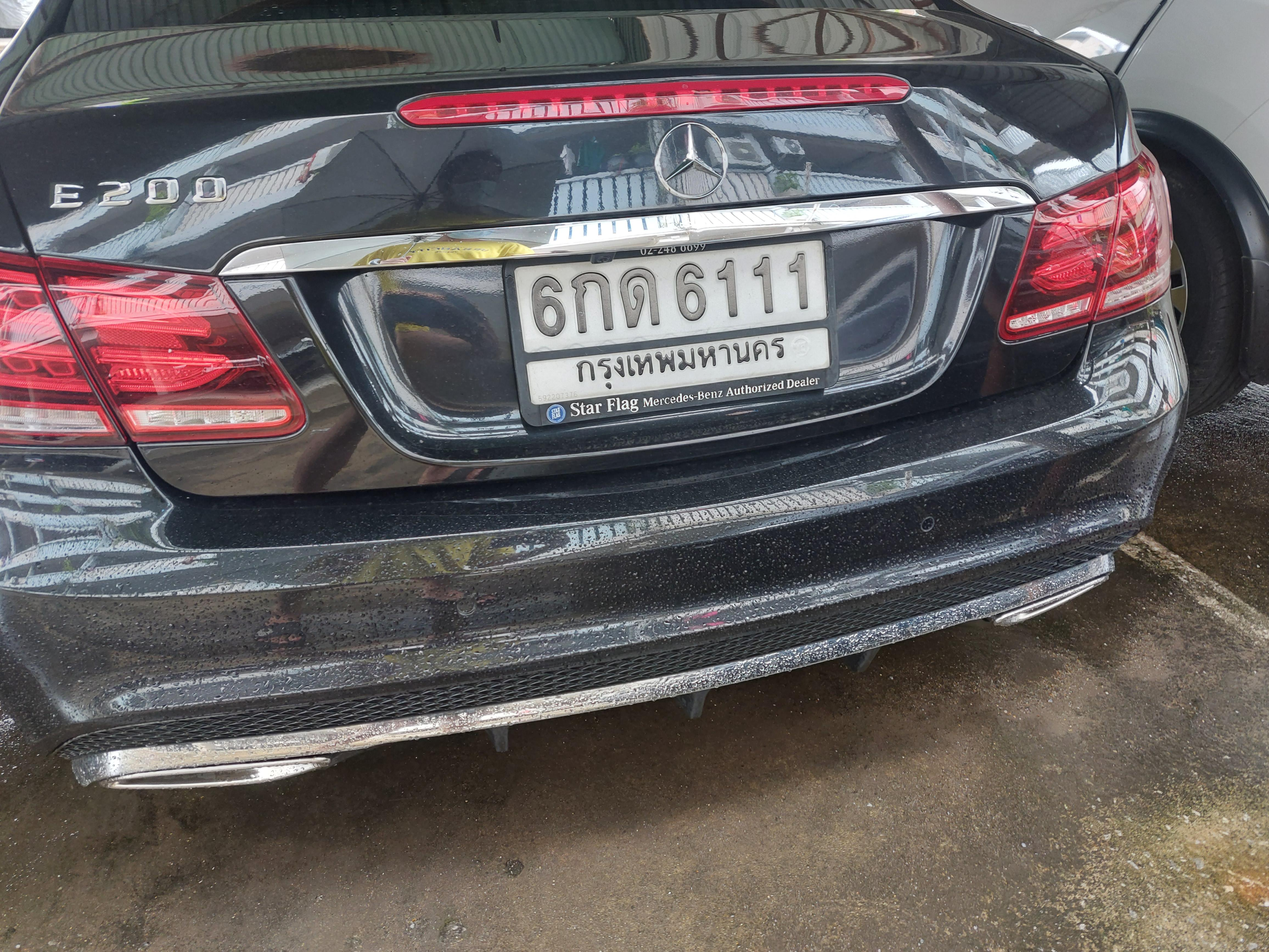license-plate: (505, 228, 844, 436)
